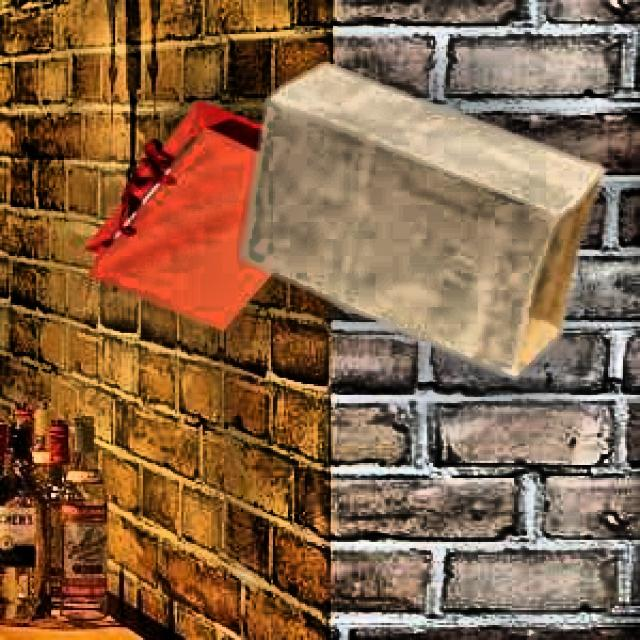Paper-bag: (229, 48, 627, 401), (101, 106, 332, 338)
